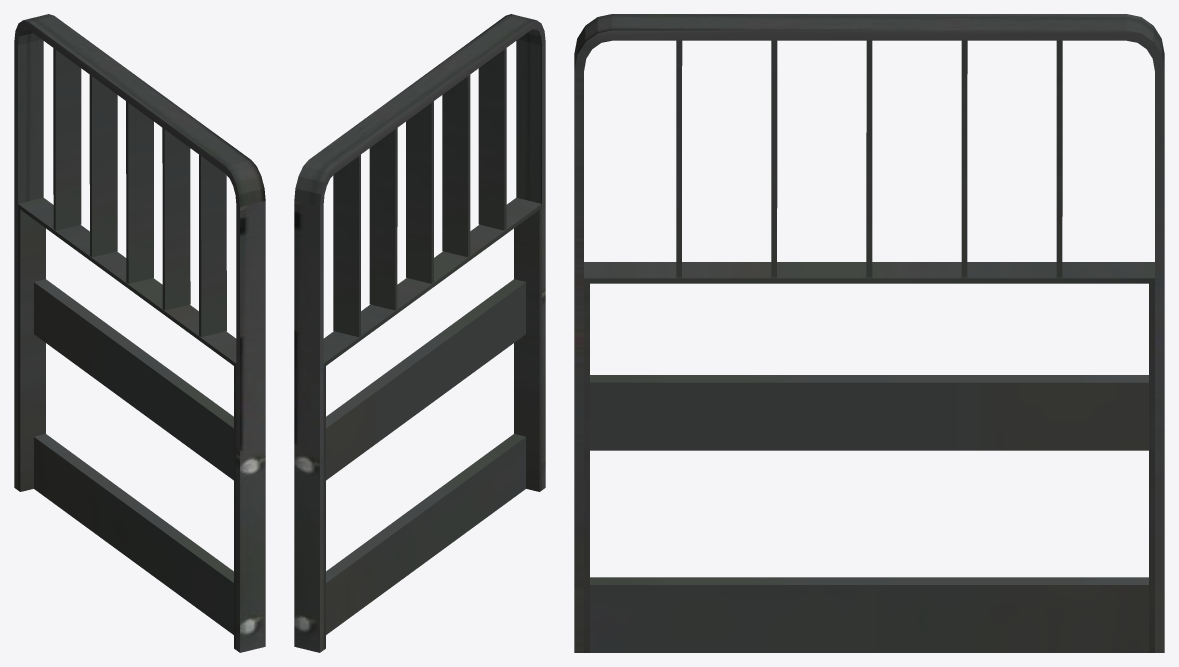
Rendered from carriage.glb.
3 renders of one model, left to right at view 1: azimuth 30°, elevation 25°; view 2: azimuth 150°, elevation 25°; view 3: azimuth 270°, elevation 25°, orthographic. The views are drawn at different scales.
Parts seen in each view (by area): view 1: carraige; view 2: carraige; view 3: carraige.
Boxes of the visible parts, x1,y1,x2,y2 form: carraige: (14, 14, 265, 652); carraige: (294, 14, 545, 652); carraige: (574, 14, 1164, 652).
Size of the model in its own units: 0.0668 by 1.18 by 1.01.
Materials: 1 (1 with a texture image).
